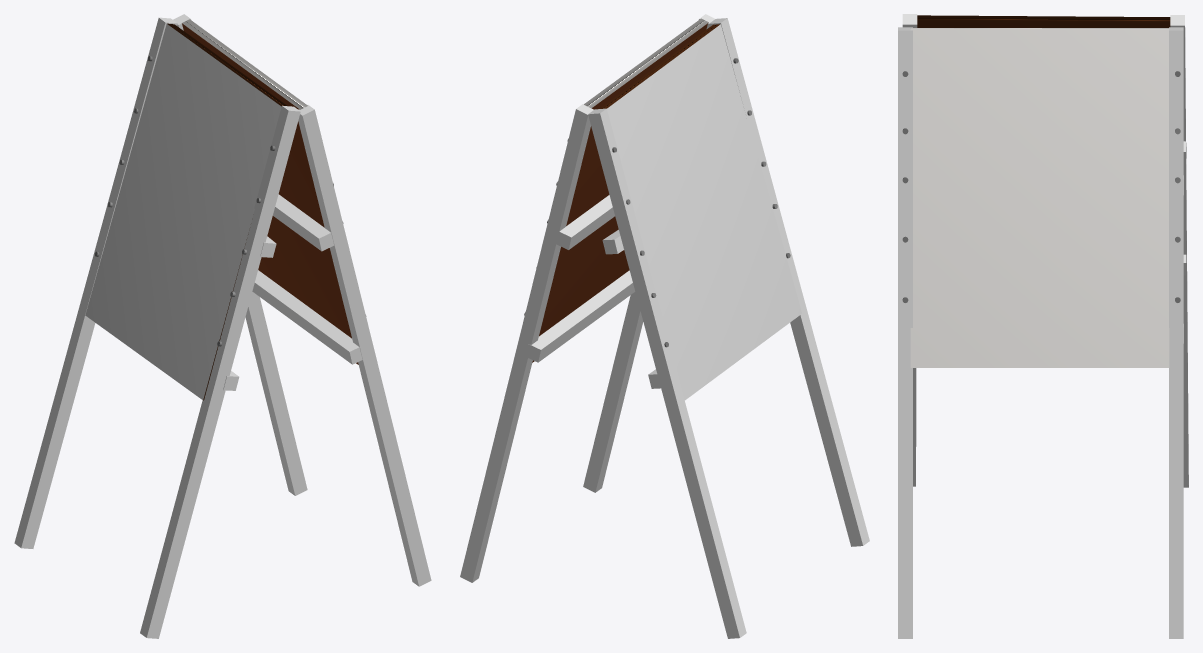
File: kanban_yukari.glb
3 views of the same model, side by side, from view 1: azimuth 30°, elevation 25°; view 2: azimuth 150°, elevation 25°; view 3: azimuth 270°, elevation 25° (orthographic). The views are drawn at different scales.
Parts seen in each view (by area): view 1: 立方体.004, 立方体.008, 立方体.001, 立方体, 立方体.006, 立方体.003, 立方体.002, 立方体.009; view 2: 立方体.004, 立方体.006, 立方体.003, 立方体, 立方体.008, 立方体.001, 立方体.002, 立方体.009; view 3: 立方体, 立方体.003, 立方体.001, 立方体.004, 立方体.006, 立方体.008.
Boxes of the visible parts, <box> form: 立方体.004: <box>85,23,287,400</box>; 立方体.008: <box>140,105,300,638</box>; 立方体.001: <box>298,105,431,586</box>; 立方体: <box>182,19,358,364</box>; 立方体.006: <box>14,17,177,548</box>; 立方体.003: <box>173,14,307,495</box>; 立方体.002: <box>252,270,362,364</box>; 立方体.009: <box>273,194,334,251</box>; 立方体.004: <box>600,24,801,400</box>; 立方体.006: <box>588,108,746,638</box>; 立方体.003: <box>460,104,593,582</box>; 立方体: <box>532,18,708,362</box>; 立方体.008: <box>709,18,869,546</box>; 立方体.001: <box>583,14,714,492</box>; 立方体.002: <box>526,270,635,362</box>; 立方体.009: <box>556,195,614,249</box>; 立方体: <box>910,28,1169,367</box>; 立方体.003: <box>1169,27,1183,638</box>; 立方体.001: <box>898,27,912,638</box>; 立方体.004: <box>917,15,1170,27</box>; 立方体.006: <box>1170,15,1188,487</box>; 立方体.008: <box>902,14,917,486</box>.
Size of the model in its own units: 1.99 by 3.39 by 1.61.
